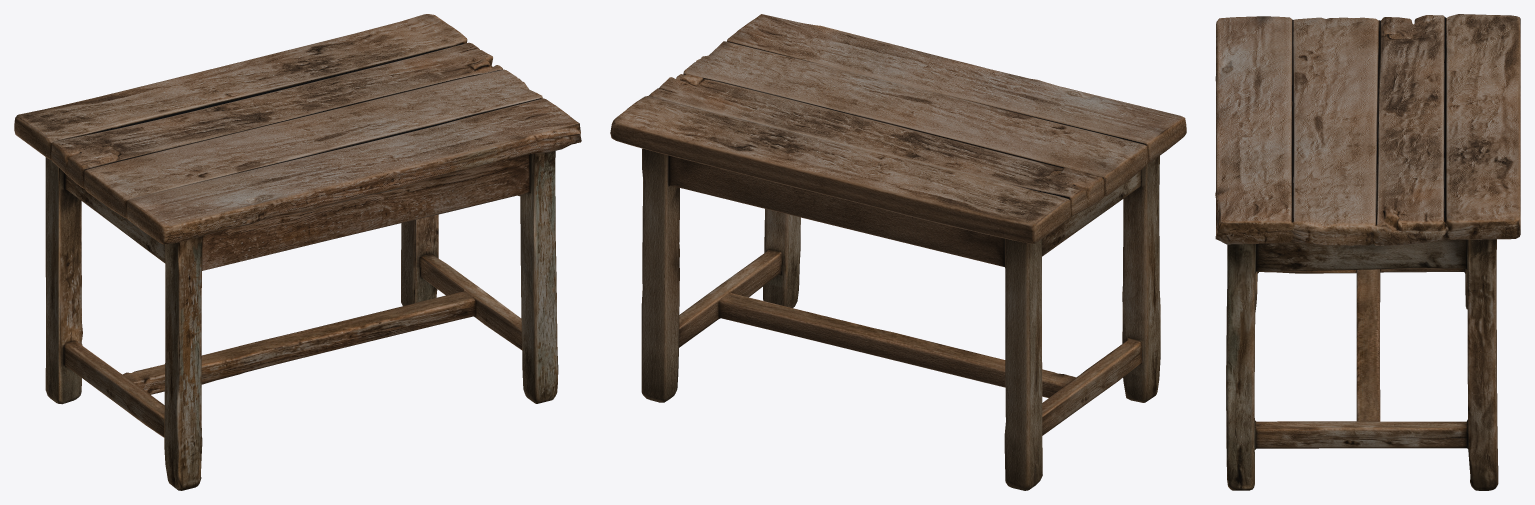
The model's file is asset09.glb.
The picture shows the model from 3 angles, left to right: view 1: azimuth 30°, elevation 25°; view 2: azimuth 150°, elevation 25°; view 3: azimuth 270°, elevation 25°; orthographic projection.
Parts seen in each view (by area): view 1: asset09; view 2: asset09; view 3: asset09.
Boxes of the visible parts, left/top/right/bottom form: asset09: left=14, top=14, right=581, bottom=490; asset09: left=610, top=14, right=1186, bottom=490; asset09: left=1215, top=14, right=1520, bottom=490.
Size of the model in its own units: 1.2 by 0.7668 by 0.7474.
Materials: 1 (1 with a texture image).
